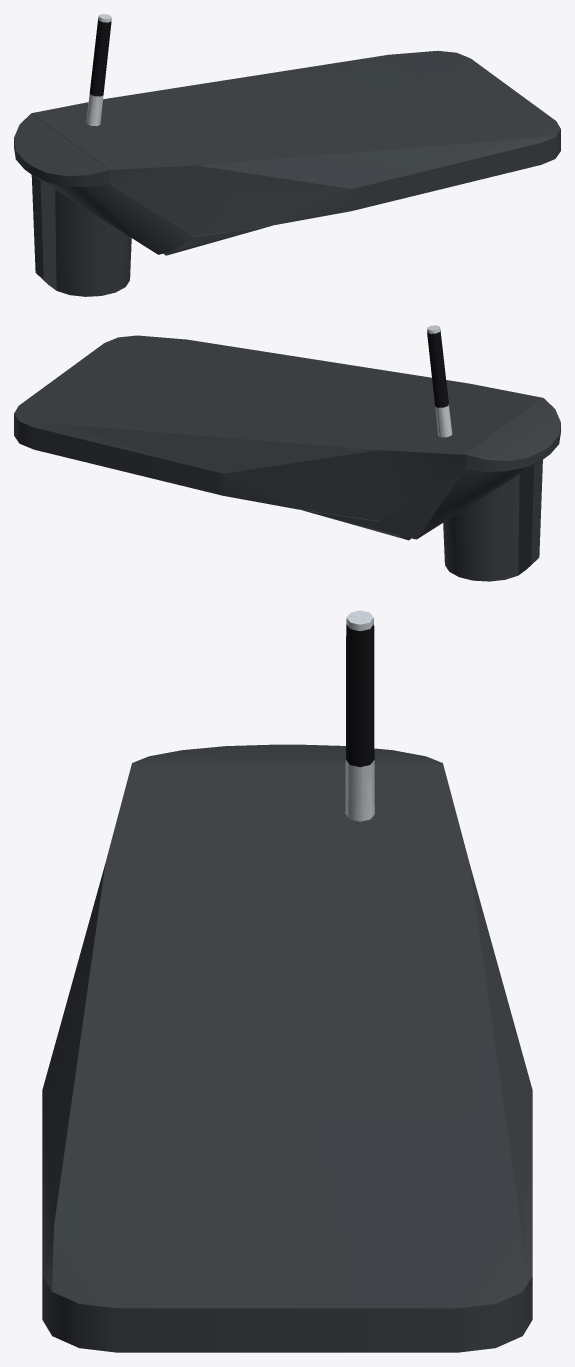
Rendered from Alfons_I.glb.
The picture shows the model from 3 angles, top to bottom: view 1: azimuth 30°, elevation 25°; view 2: azimuth 150°, elevation 25°; view 3: azimuth 270°, elevation 25°; orthographic projection. The views are drawn at different scales.
Visible parts, largest first — view 1: Cube.001, Cylinder, Antenne.001; view 2: Cube.001, Cylinder, Antenne.001; view 3: Cube.001, Antenne.001.
Part boxes in pixels (box(x1,y1,x2,y2)): Cube.001: box(14, 50, 560, 255); Cylinder: box(31, 175, 131, 296); Antenne.001: box(86, 14, 111, 126); Cube.001: box(14, 335, 560, 540); Cylinder: box(443, 460, 542, 581); Antenne.001: box(427, 325, 452, 437); Cube.001: box(42, 744, 532, 1352); Antenne.001: box(345, 610, 374, 821).
Size of the model in its own units: 0.5465 by 0.2597 by 0.239.
Materials: 4 (4 with a texture image).
